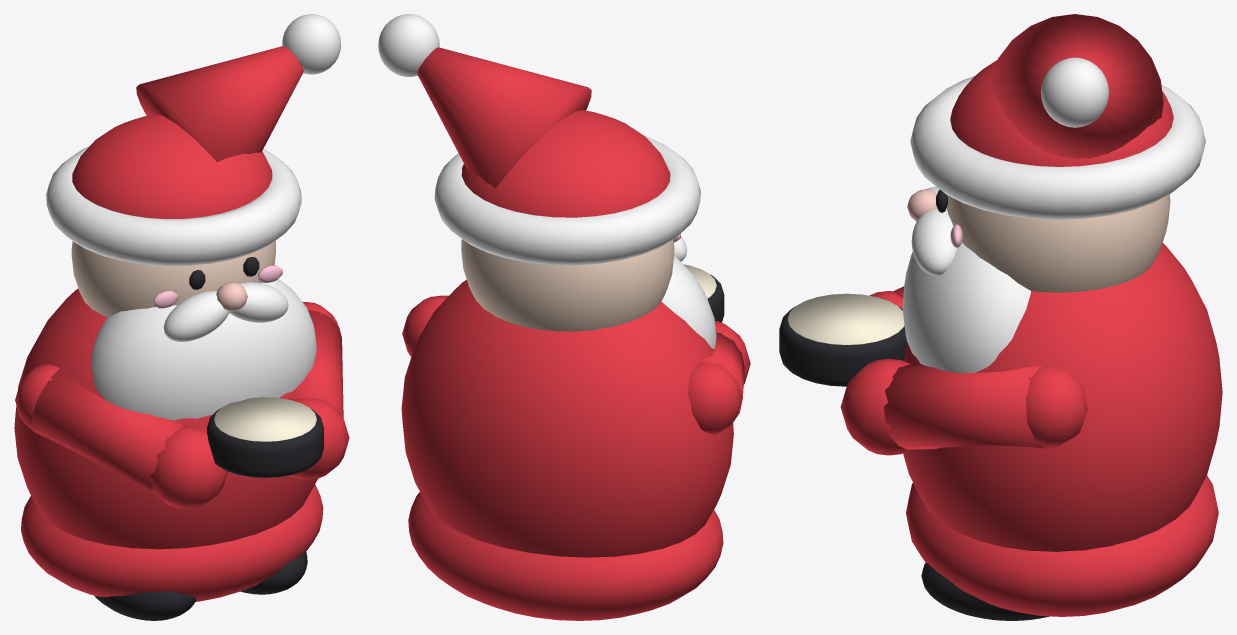
File: gukbap.glb
3 views of the same model, side by side, from view 1: azimuth 30°, elevation 25°; view 2: azimuth 150°, elevation 25°; view 3: azimuth 270°, elevation 25° (orthographic). The views are drawn at different scales.
Visible parts, largest first — view 1: gukbap_red, gukbap_white, gukbap_black, gukbap_skin, gukbap_cream, gukbap_nose, gukbap_pink; view 2: gukbap_red, gukbap_white, gukbap_skin; view 3: gukbap_red, gukbap_white, gukbap_skin, gukbap_black, gukbap_cream, gukbap_nose.
Part boxes in pixels (<box>): gukbap_red: <box>14,46,349,601</box>; gukbap_white: <box>46,14,340,420</box>; gukbap_black: <box>94,257,323,620</box>; gukbap_skin: <box>71,240,275,317</box>; gukbap_cream: <box>214,397,316,441</box>; gukbap_nose: <box>216,282,247,311</box>; gukbap_pink: <box>153,265,282,308</box>; gukbap_red: <box>401,47,750,620</box>; gukbap_white: <box>378,14,716,349</box>; gukbap_skin: <box>461,239,674,331</box>; gukbap_red: <box>840,14,1222,616</box>; gukbap_white: <box>902,57,1205,373</box>; gukbap_skin: <box>946,194,1170,292</box>; gukbap_black: <box>779,189,1049,620</box>; gukbap_cream: <box>787,293,904,344</box>; gukbap_nose: <box>907,189,937,221</box>.
Bounding box in the file's own units: 2.08 × 3.16 × 2.1.
